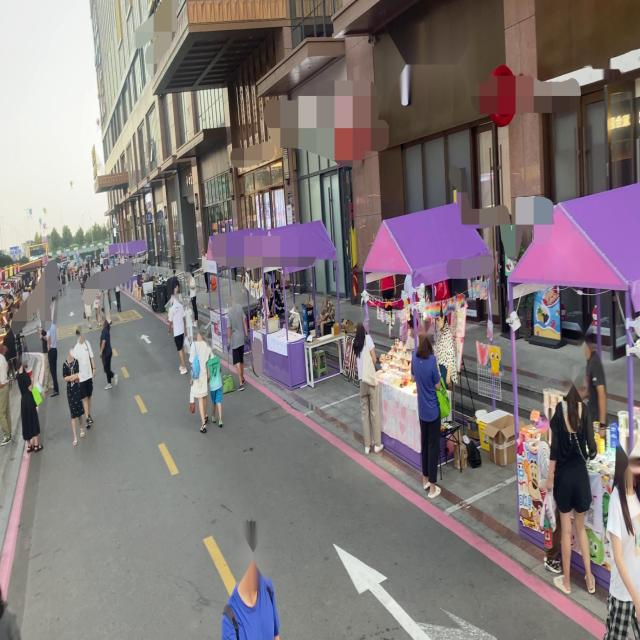fixed_stall: (367, 270, 526, 468), (515, 384, 640, 573), (244, 272, 279, 373), (267, 324, 307, 388), (303, 328, 346, 386), (126, 252, 148, 291), (0, 320, 6, 334)
sunshade: (507, 181, 640, 312), (361, 202, 492, 286), (261, 219, 337, 276), (243, 222, 301, 266), (215, 225, 264, 268), (206, 234, 221, 262), (125, 239, 147, 255), (108, 243, 119, 255), (120, 242, 126, 253), (42, 260, 52, 266), (117, 243, 122, 253)
